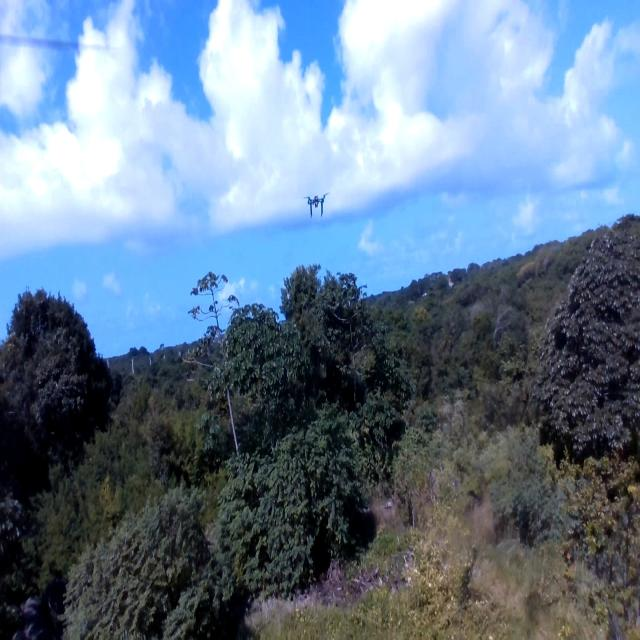-uav-: (305, 190, 327, 222)
